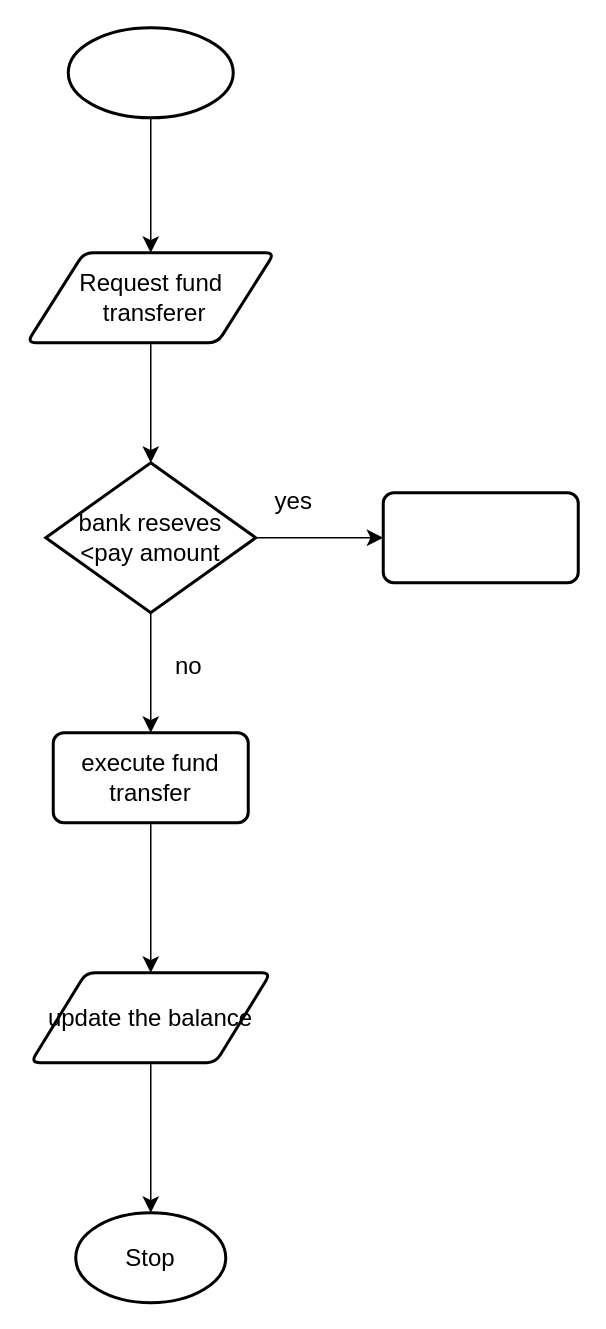
Image size: 606x1329. Some labels were removed from this diagram. The box of each missing label's shape, as (x1, y1, x2, y2) in pixels:
send error message: (381, 490, 579, 584)
Start: (66, 26, 234, 118)
